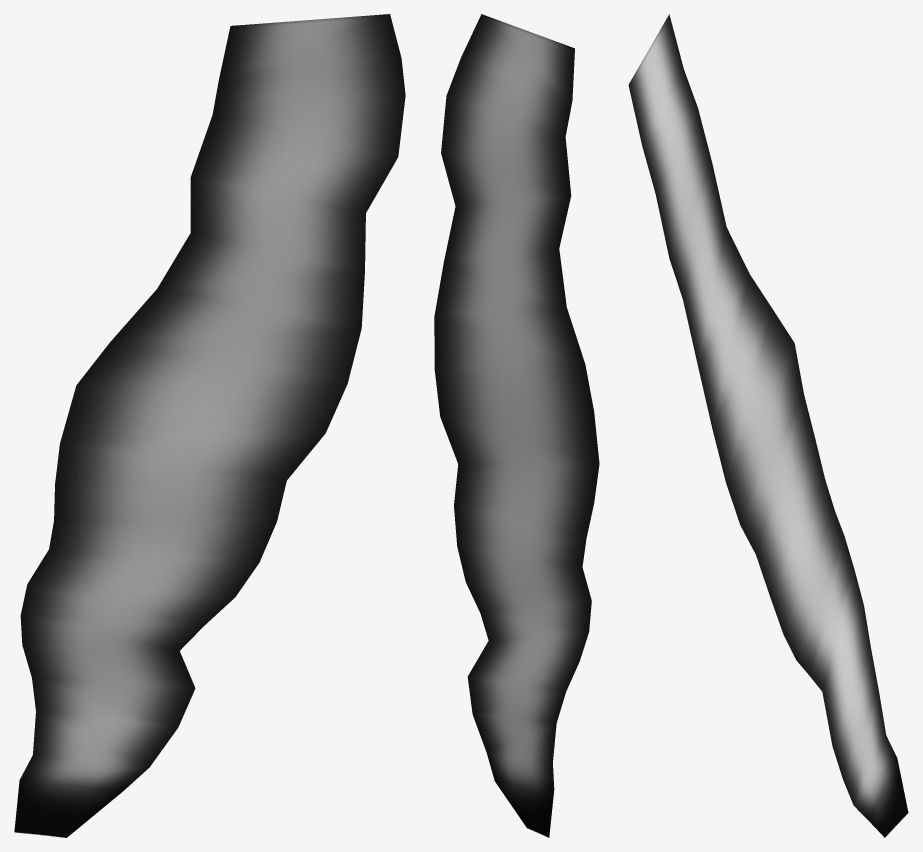
The model's file is texiao07.FBX.
The picture shows the model from 3 angles, left to right: view 1: azimuth 30°, elevation 25°; view 2: azimuth 150°, elevation 25°; view 3: azimuth 270°, elevation 25°; orthographic projection. The views are drawn at different scales.
Visible parts, largest first — view 1: texiao07; view 2: texiao07; view 3: texiao07.
Boxes of the visible parts, box(x1,y1,x2,y2) form: texiao07: box(14, 14, 405, 837); texiao07: box(434, 14, 599, 837); texiao07: box(628, 14, 908, 837).
Bounding box in the file's own units: 13.74 × 41.07 × 12.29.
